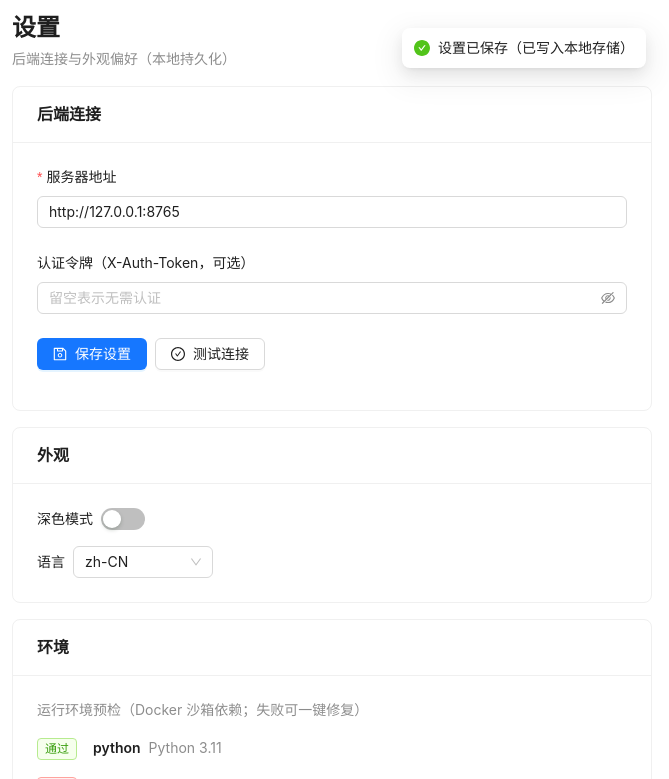
Test: Settings 页面 › 测试连接成功显示成功提示
Click the button with test id "test-connection-btn" at (210, 354), box 155,338 -> 265,370
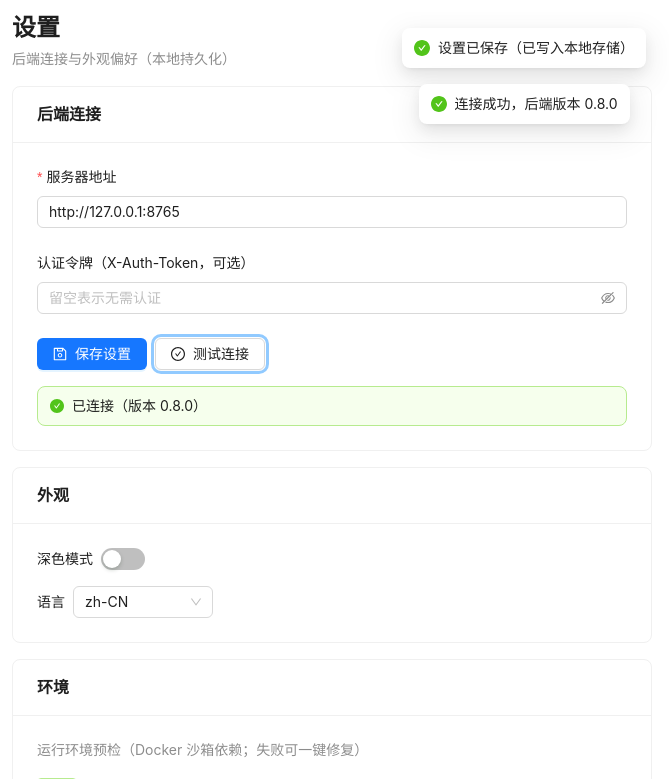
Check: the message "已连接（版本 0.8.0）" is shown, box 37,386 -> 627,426
